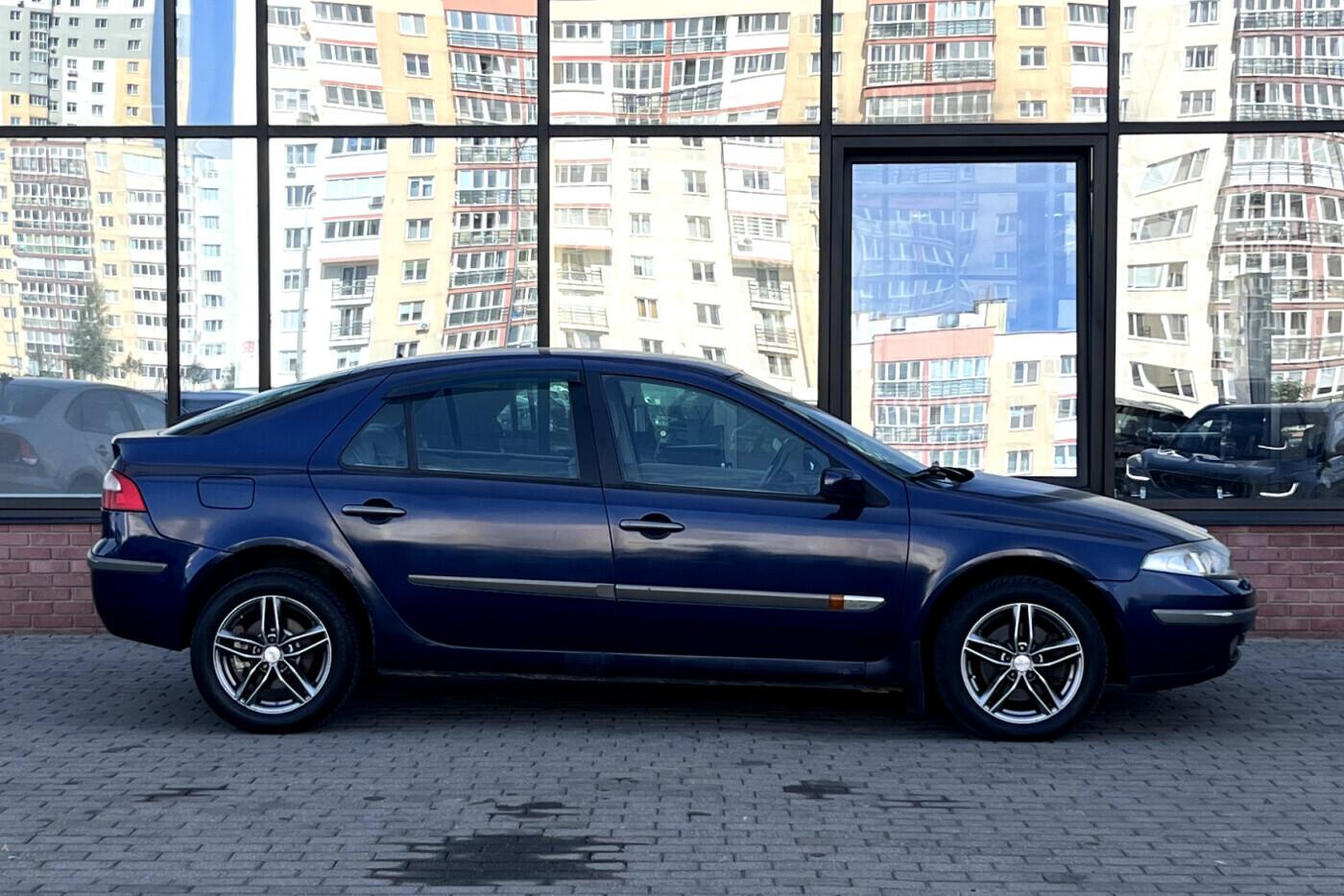Laguna_2001-2005: (87, 349, 1257, 739)
